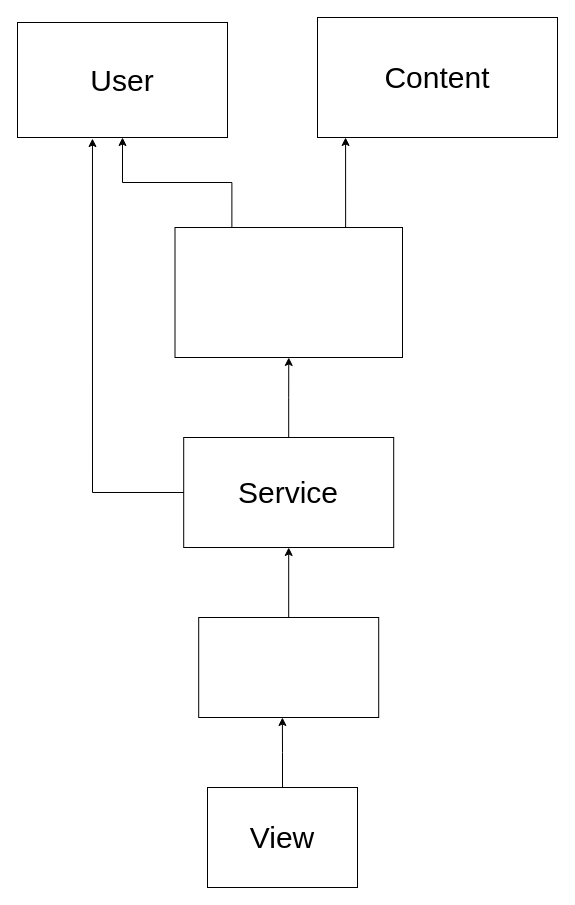
Image size: 575x905. Some labels were removed from this diagram. The centre of each missing label's shape, as x and y in pixels:
"Controller" goes at point (288, 667).
"DataRepository" goes at point (288, 292).
